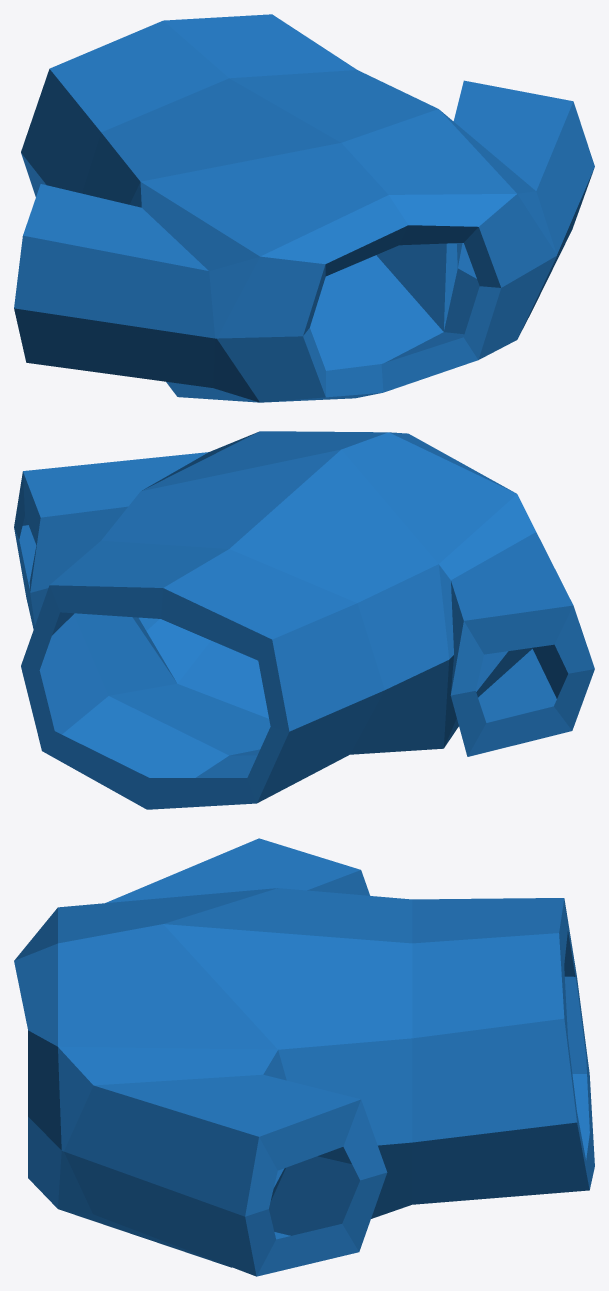
File: shirt1.obj
The picture shows the model from 3 angles, top to bottom: view 1: azimuth 30°, elevation 25°; view 2: azimuth 150°, elevation 25°; view 3: azimuth 270°, elevation 25°; orthographic projection. The views are drawn at different scales.
Visible parts, largest first — view 1: short_sleeve; view 2: short_sleeve; view 3: short_sleeve.
Part boxes in pixels (x1=…): short_sleeve: x1=14, y1=14, x2=594, y2=402; short_sleeve: x1=14, y1=431, x2=594, y2=809; short_sleeve: x1=14, y1=838, x2=594, y2=1276.
Bounding box in the file's own units: 4.28 × 1.91 × 3.34.
